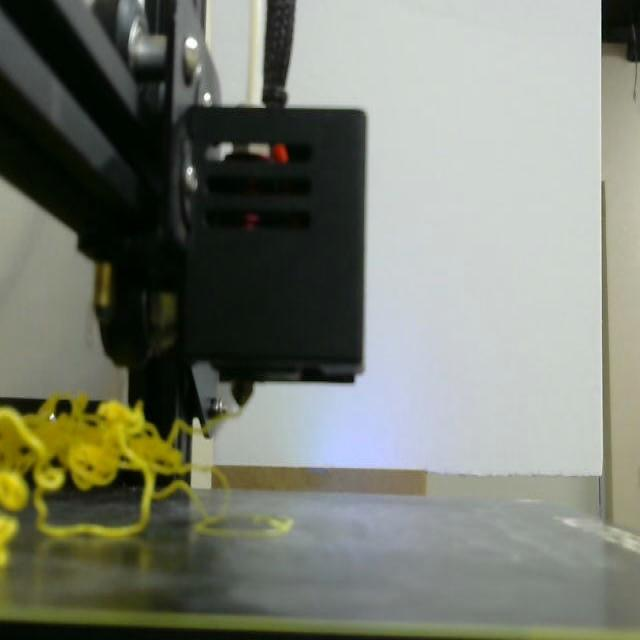spaghetti: (0, 395, 292, 568), (205, 414, 228, 431)
